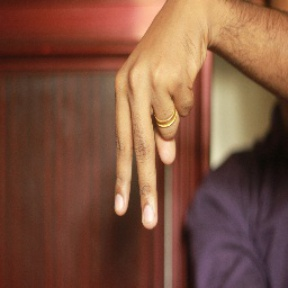Y: (102, 49, 199, 234)
